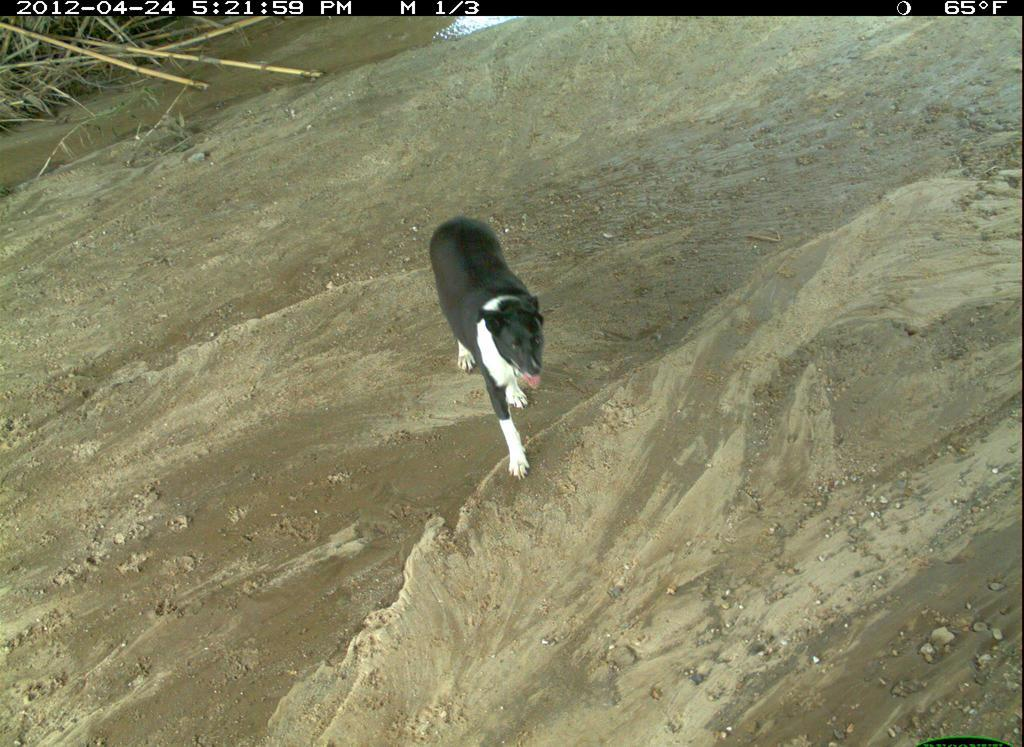dog: (856, 423, 1024, 747)
